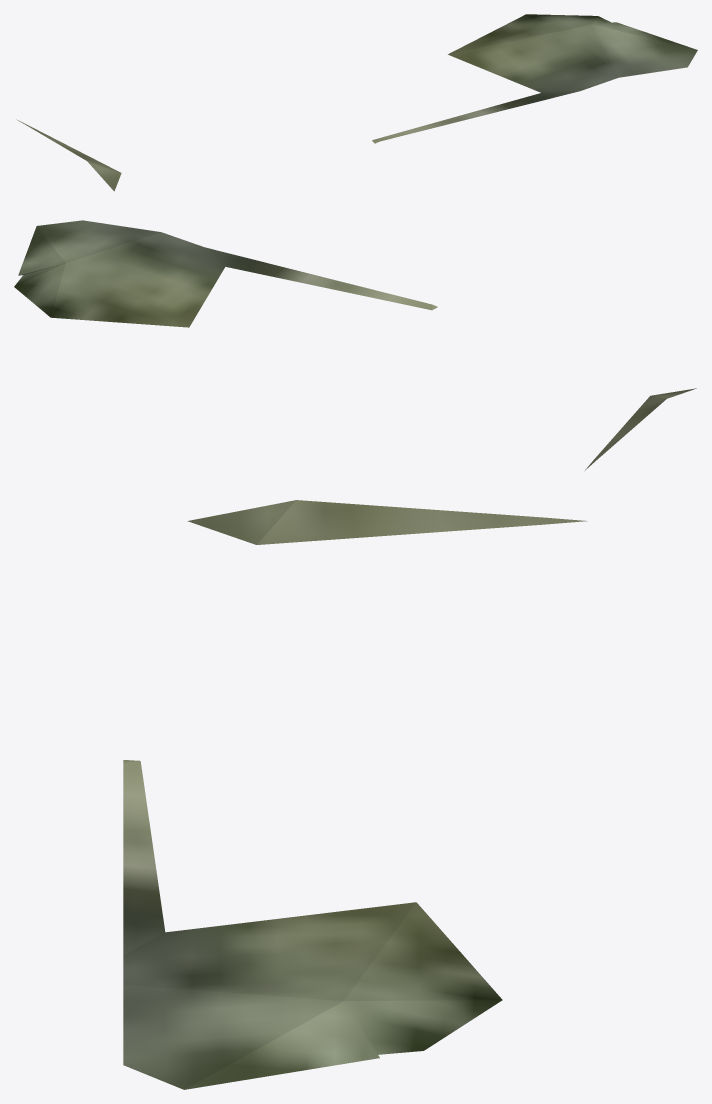
The picture shows the model from 3 angles, top to bottom: view 1: azimuth 30°, elevation 25°; view 2: azimuth 150°, elevation 25°; view 3: azimuth 270°, elevation 25°; orthographic projection. The views are drawn at different scales.
Size of the model in its own units: 0.5367 by 0.0109 by 0.1855.
1 material, 1 textured.
